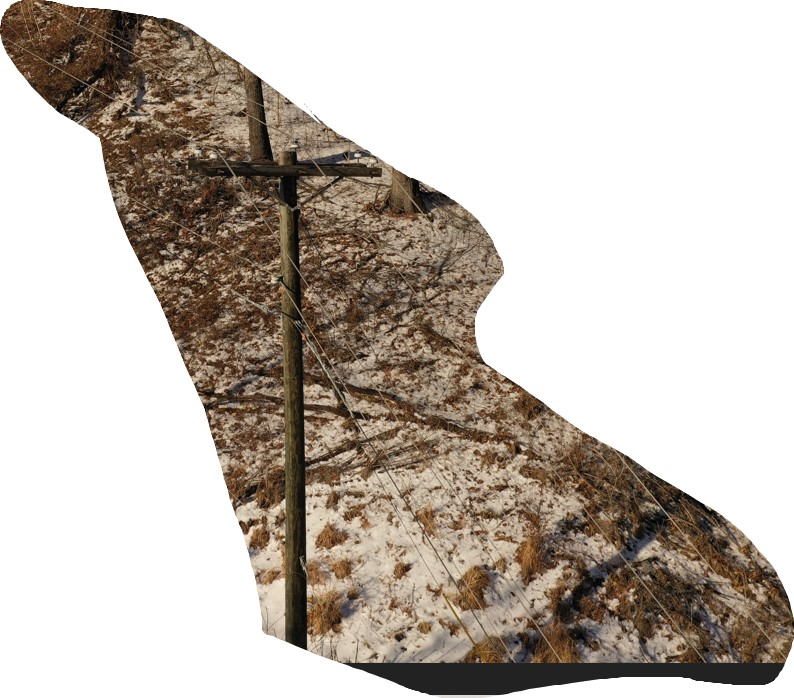pole: (172, 119, 398, 653)
